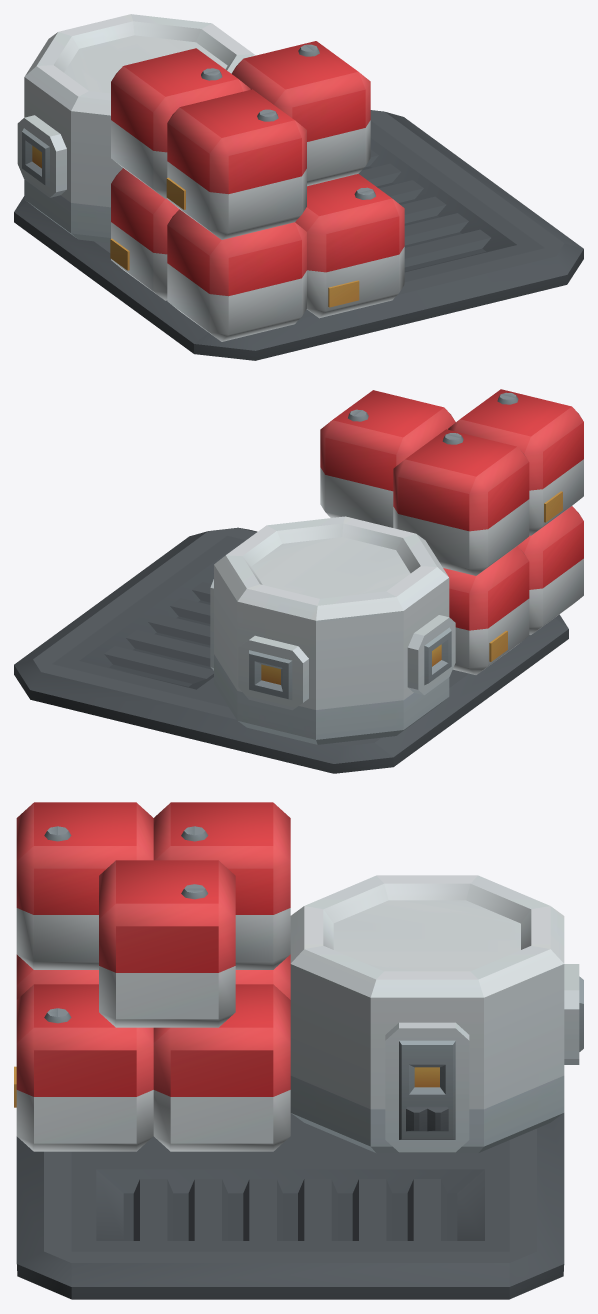
File: cargodepot-a.glb
The picture shows the model from 3 angles, top to bottom: view 1: azimuth 30°, elevation 25°; view 2: azimuth 150°, elevation 25°; view 3: azimuth 270°, elevation 25°; orthographic projection. The views are drawn at different scales.
Visible parts, largest first — view 1: cargodepot_A; view 2: cargodepot_A; view 3: cargodepot_A.
Boxes of the visible parts, x1,y1,x2,y2 form: cargodepot_A: (14, 14, 583, 360); cargodepot_A: (14, 389, 583, 773); cargodepot_A: (14, 802, 583, 1299).
Bounding box in the file's own units: 2.07 × 1.12 × 2.08.
Materials: 1 (1 with a texture image).
